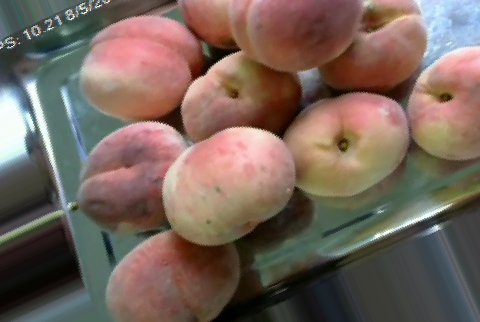Peach: (162, 127, 296, 244), (283, 91, 409, 195), (80, 13, 203, 119), (108, 230, 240, 321), (78, 121, 187, 230), (181, 49, 301, 139), (316, 0, 427, 89), (227, 0, 369, 69), (408, 46, 479, 161)
